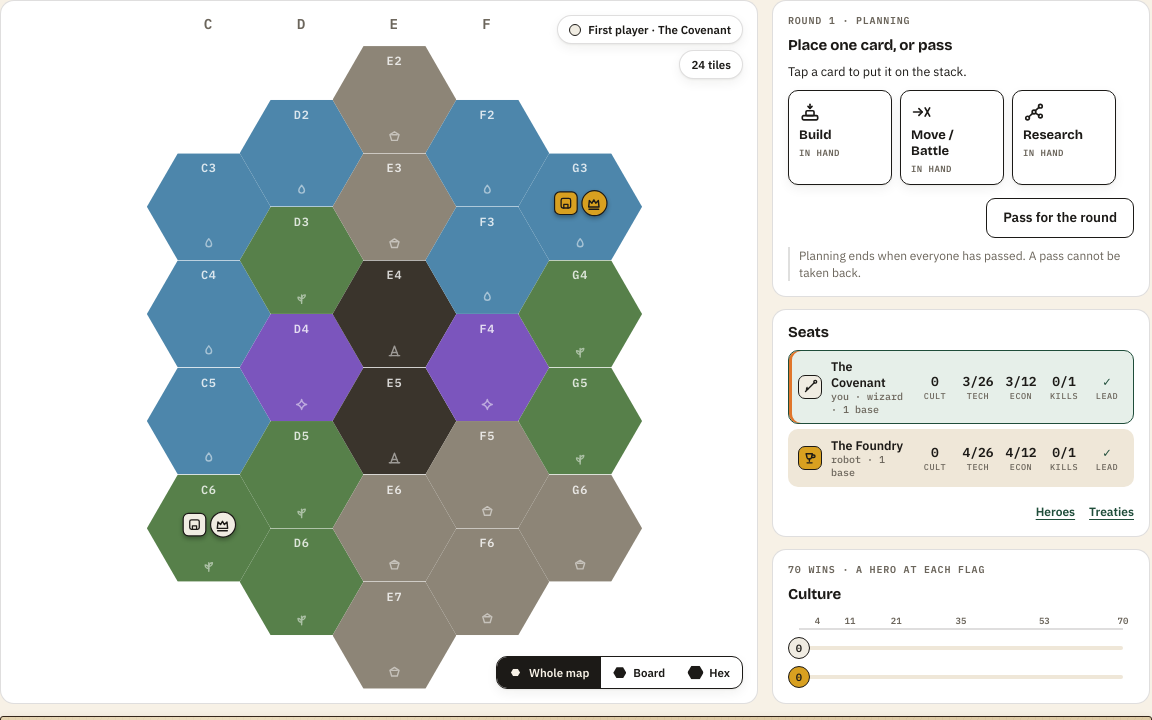
Test: NGnG screen › marks on the faction board what the seat has and has not unlocked, from the engine's own list
Click the button with class "you": [961, 387] box [788, 350, 1134, 424]
(page scrolled)
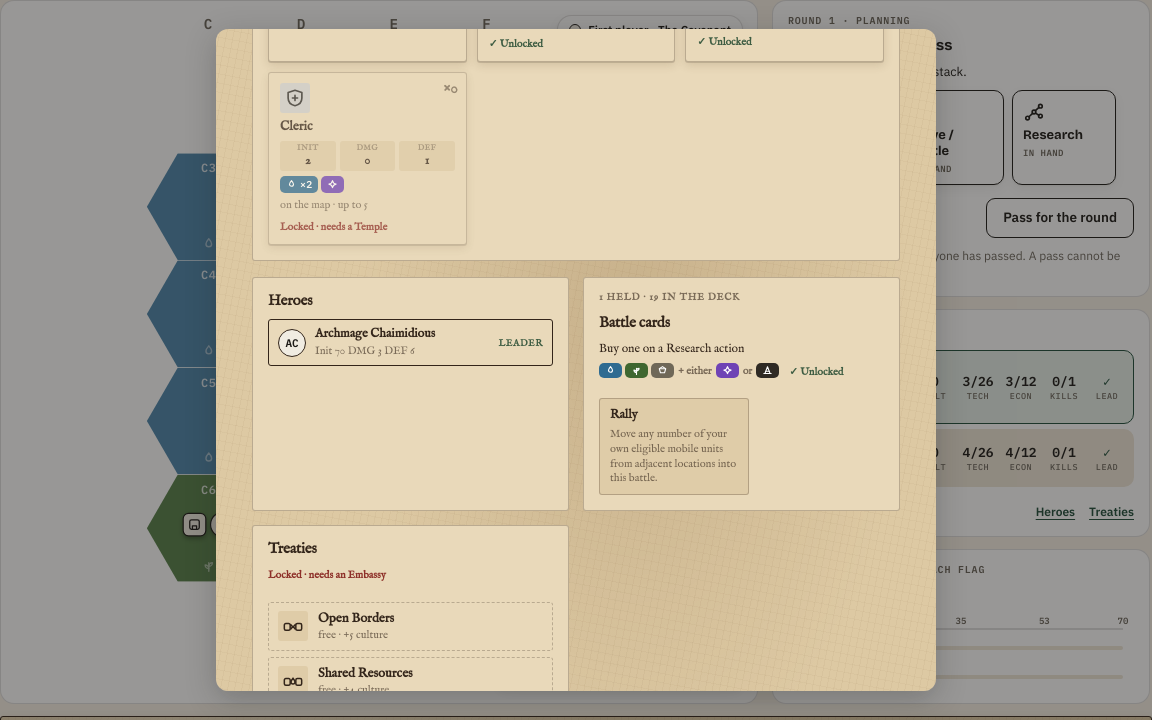
Expected: the button that starts with "Cleric" shows "Locked · needs a Temple", [268, 72, 467, 245]
Expected: the element showing "Locked · needs an Embassy" is shown, [268, 568, 386, 582]
Expected: the element showing "Buy one on a Research action + either or ✓ Unlocked" is shown, [599, 341, 884, 379]
